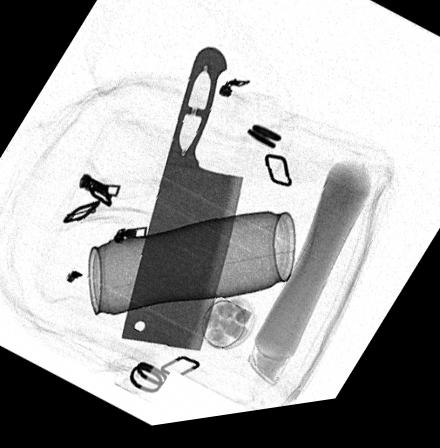Knife: (119, 52, 244, 358)
